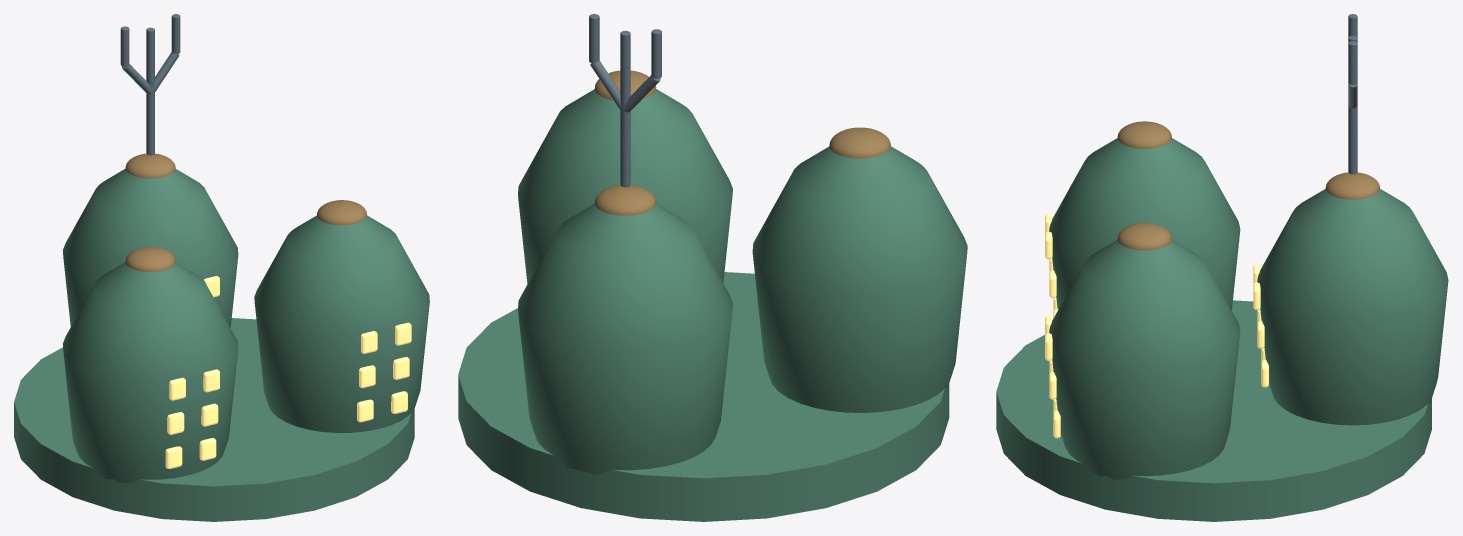
3 renders of one model, left to right at view 1: azimuth 30°, elevation 25°; view 2: azimuth 150°, elevation 25°; view 3: azimuth 270°, elevation 25°, orthographic. The views are drawn at different scales.
Visible parts, largest first — view 1: Foundation drum, Bulb shaped chamber.001, Bulb shaped chamber.002, Bulb shaped chamber, Aerial stem, Tower crown.002, Tower crown.001, Tower crown; view 2: Bulb shaped chamber, Bulb shaped chamber.001, Foundation drum, Bulb shaped chamber.002, Aerial stem, Tower crown.001, Tower crown, Tower crown.002; view 3: Bulb shaped chamber.002, Bulb shaped chamber, Foundation drum, Bulb shaped chamber.001, Tower crown.001, Tower crown.002, Tower crown, Aerial stem.
Part boxes in pixels (<box>): Foundation drum: <box>14,318,414,521</box>; Bulb shaped chamber.001: <box>63,262,238,482</box>; Bulb shaped chamber.002: <box>254,215,429,432</box>; Bulb shaped chamber: <box>62,168,238,327</box>; Aerial stem: <box>146,27,154,155</box>; Tower crown.002: <box>317,200,366,225</box>; Tower crown.001: <box>125,246,175,271</box>; Tower crown: <box>125,153,175,178</box>; Bulb shaped chamber: <box>518,203,732,474</box>; Bulb shaped chamber.001: <box>752,146,967,412</box>; Foundation drum: <box>458,272,949,521</box>; Bulb shaped chamber.002: <box>518,89,732,283</box>; Aerial stem: <box>620,30,630,187</box>; Tower crown.001: <box>829,127,890,158</box>; Tower crown: <box>594,185,656,215</box>; Tower crown.002: <box>594,70,656,99</box>; Bulb shaped chamber.002: <box>1049,239,1240,479</box>; Bulb shaped chamber: <box>1257,189,1448,425</box>; Foundation drum: <box>996,300,1431,521</box>; Bulb shaped chamber.001: <box>1049,138,1240,310</box>; Tower crown.001: <box>1117,121,1171,148</box>; Tower crown.002: <box>1117,223,1171,250</box>; Tower crown: <box>1325,172,1379,199</box>; Aerial stem: <box>1348,35,1357,174</box>.
Bounding box in the file's own units: 2.04 × 2.07 × 2.12.
